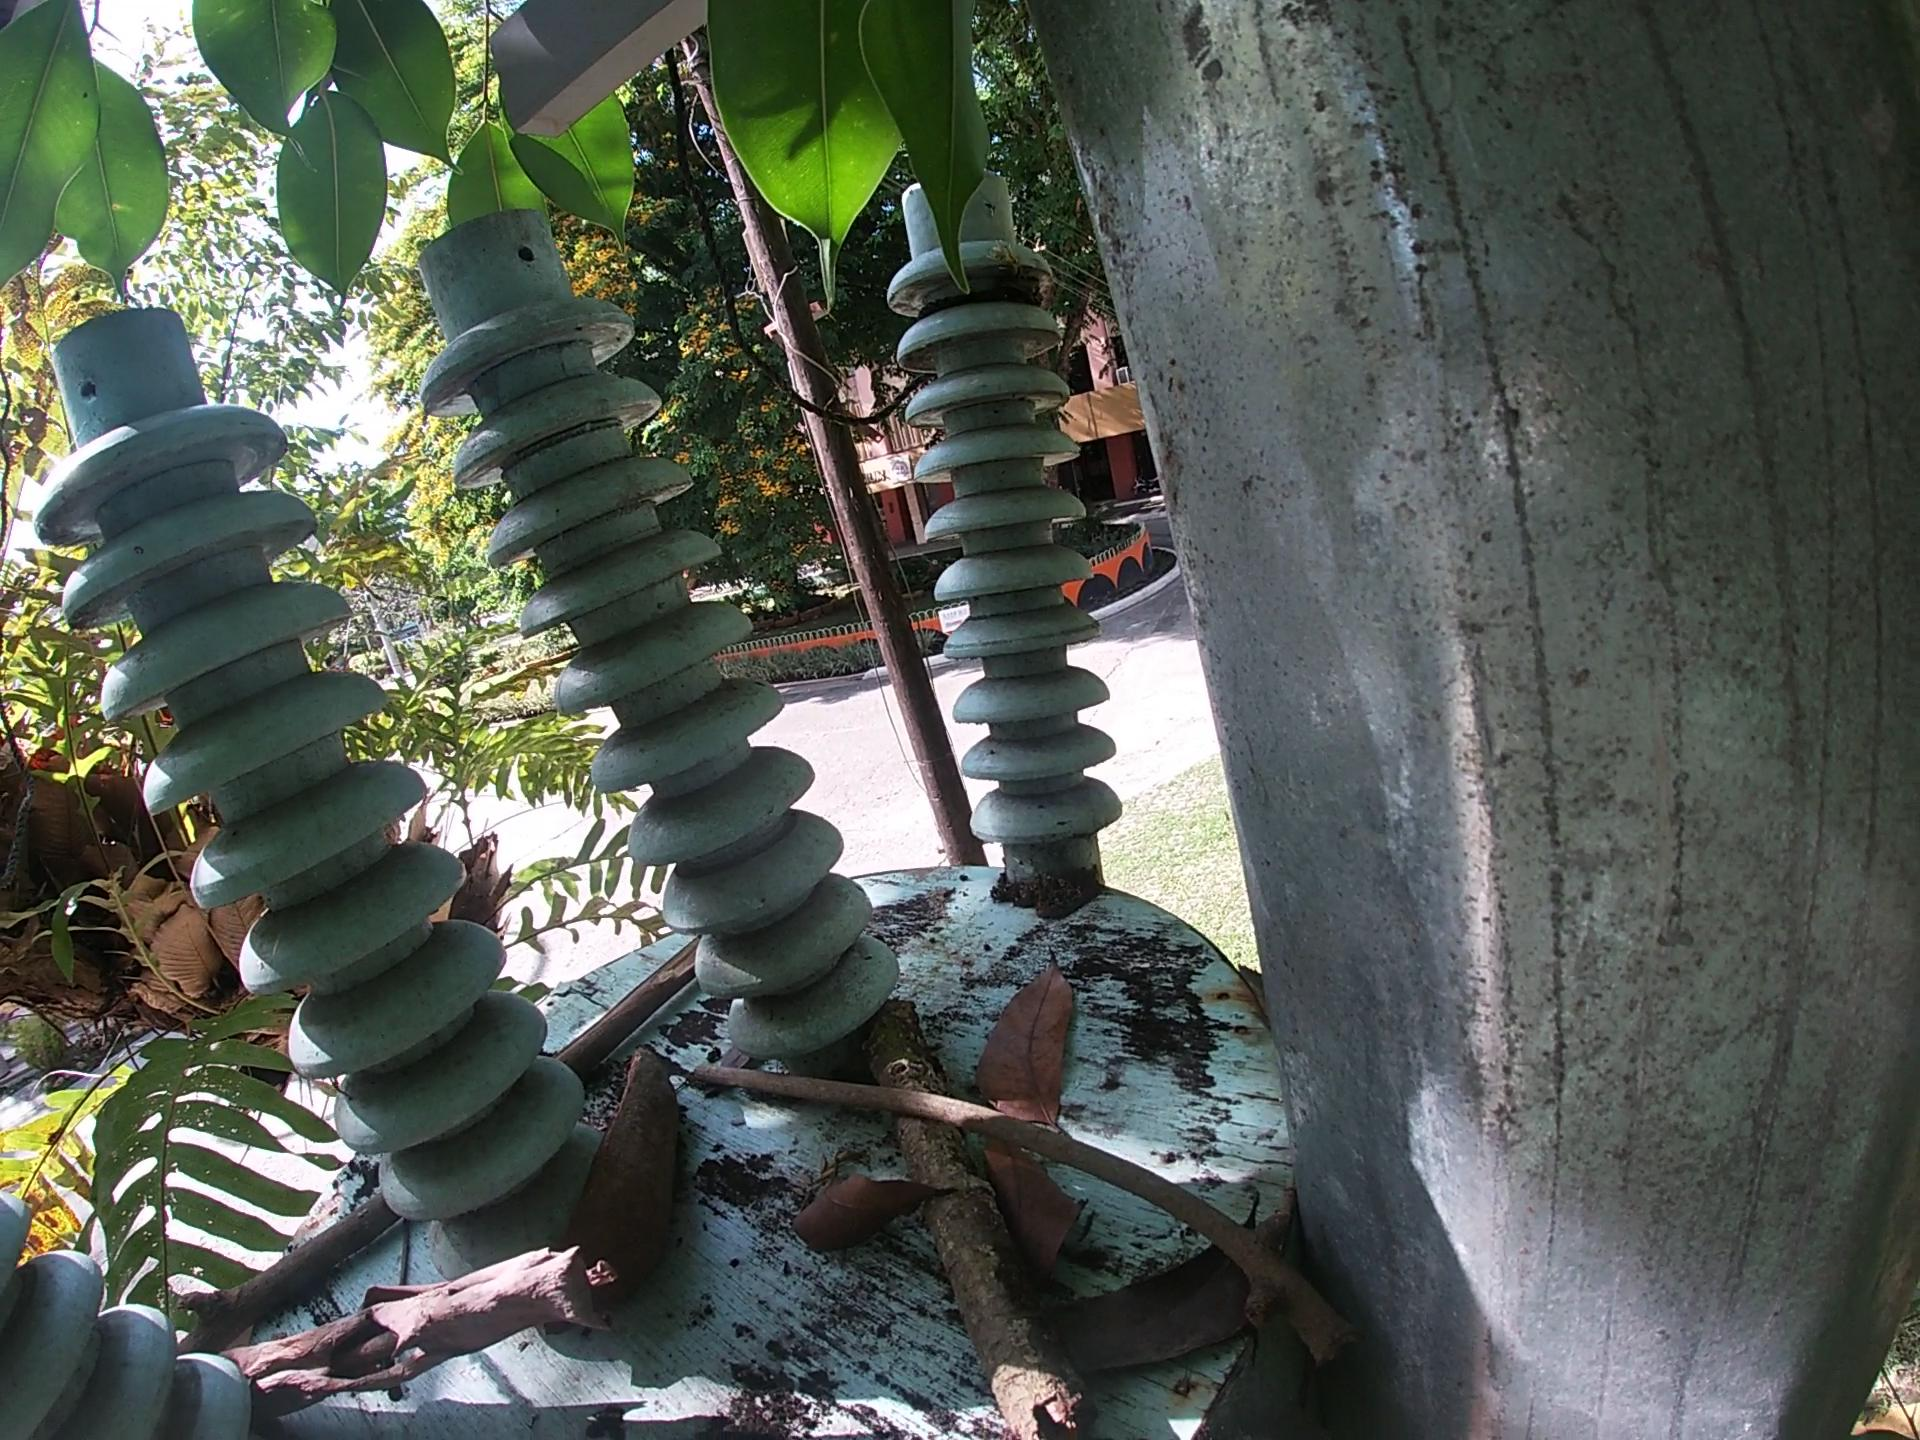leaf: (1042, 1187, 1277, 1389), (969, 948, 1098, 1134), (972, 1134, 1085, 1293), (782, 1165, 962, 1262)
mahogany fruit: (544, 1042, 700, 1342)
tree branch: (680, 1050, 1373, 1370), (850, 983, 1111, 1440), (206, 1230, 630, 1425), (166, 1184, 405, 1364), (550, 932, 717, 1082)
